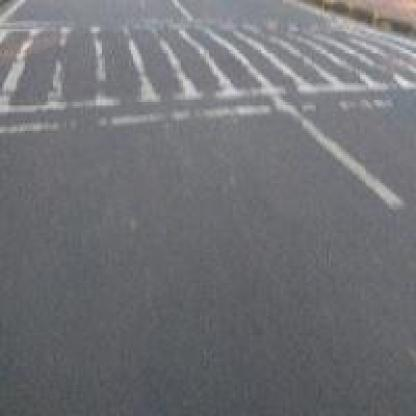Speed Bump: (0, 15, 414, 137)
